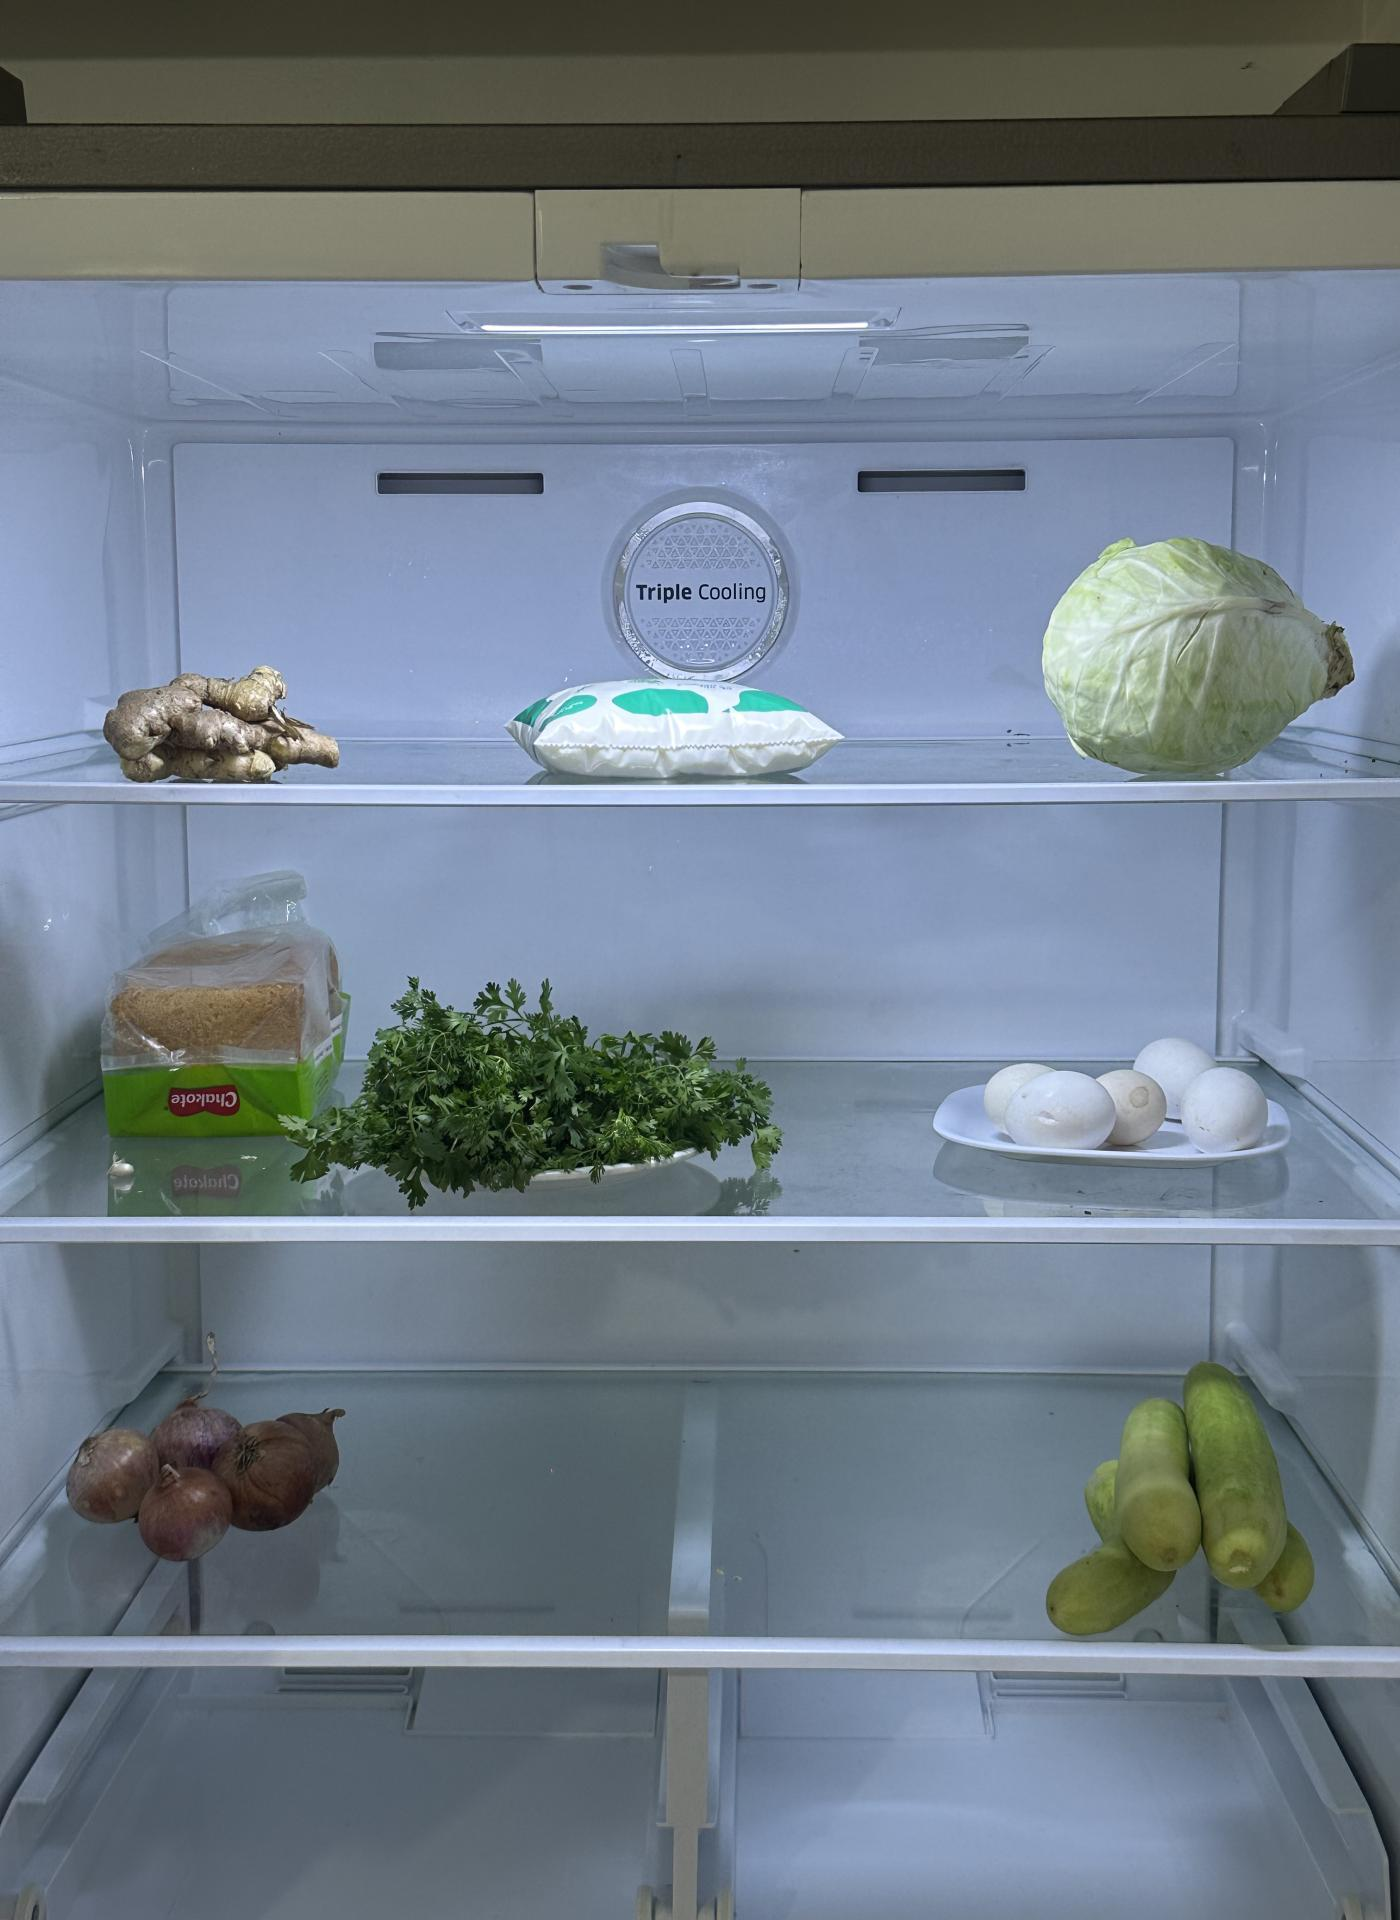bread: (103, 920, 343, 1125)
cabbage: (1029, 525, 1387, 783)
coriander: (358, 978, 762, 1194), (945, 1023, 1299, 1169)
cucumber: (1033, 1358, 1328, 1641)
ginger: (89, 668, 358, 795)
milk: (510, 663, 847, 783)
onion: (70, 1377, 343, 1549)
